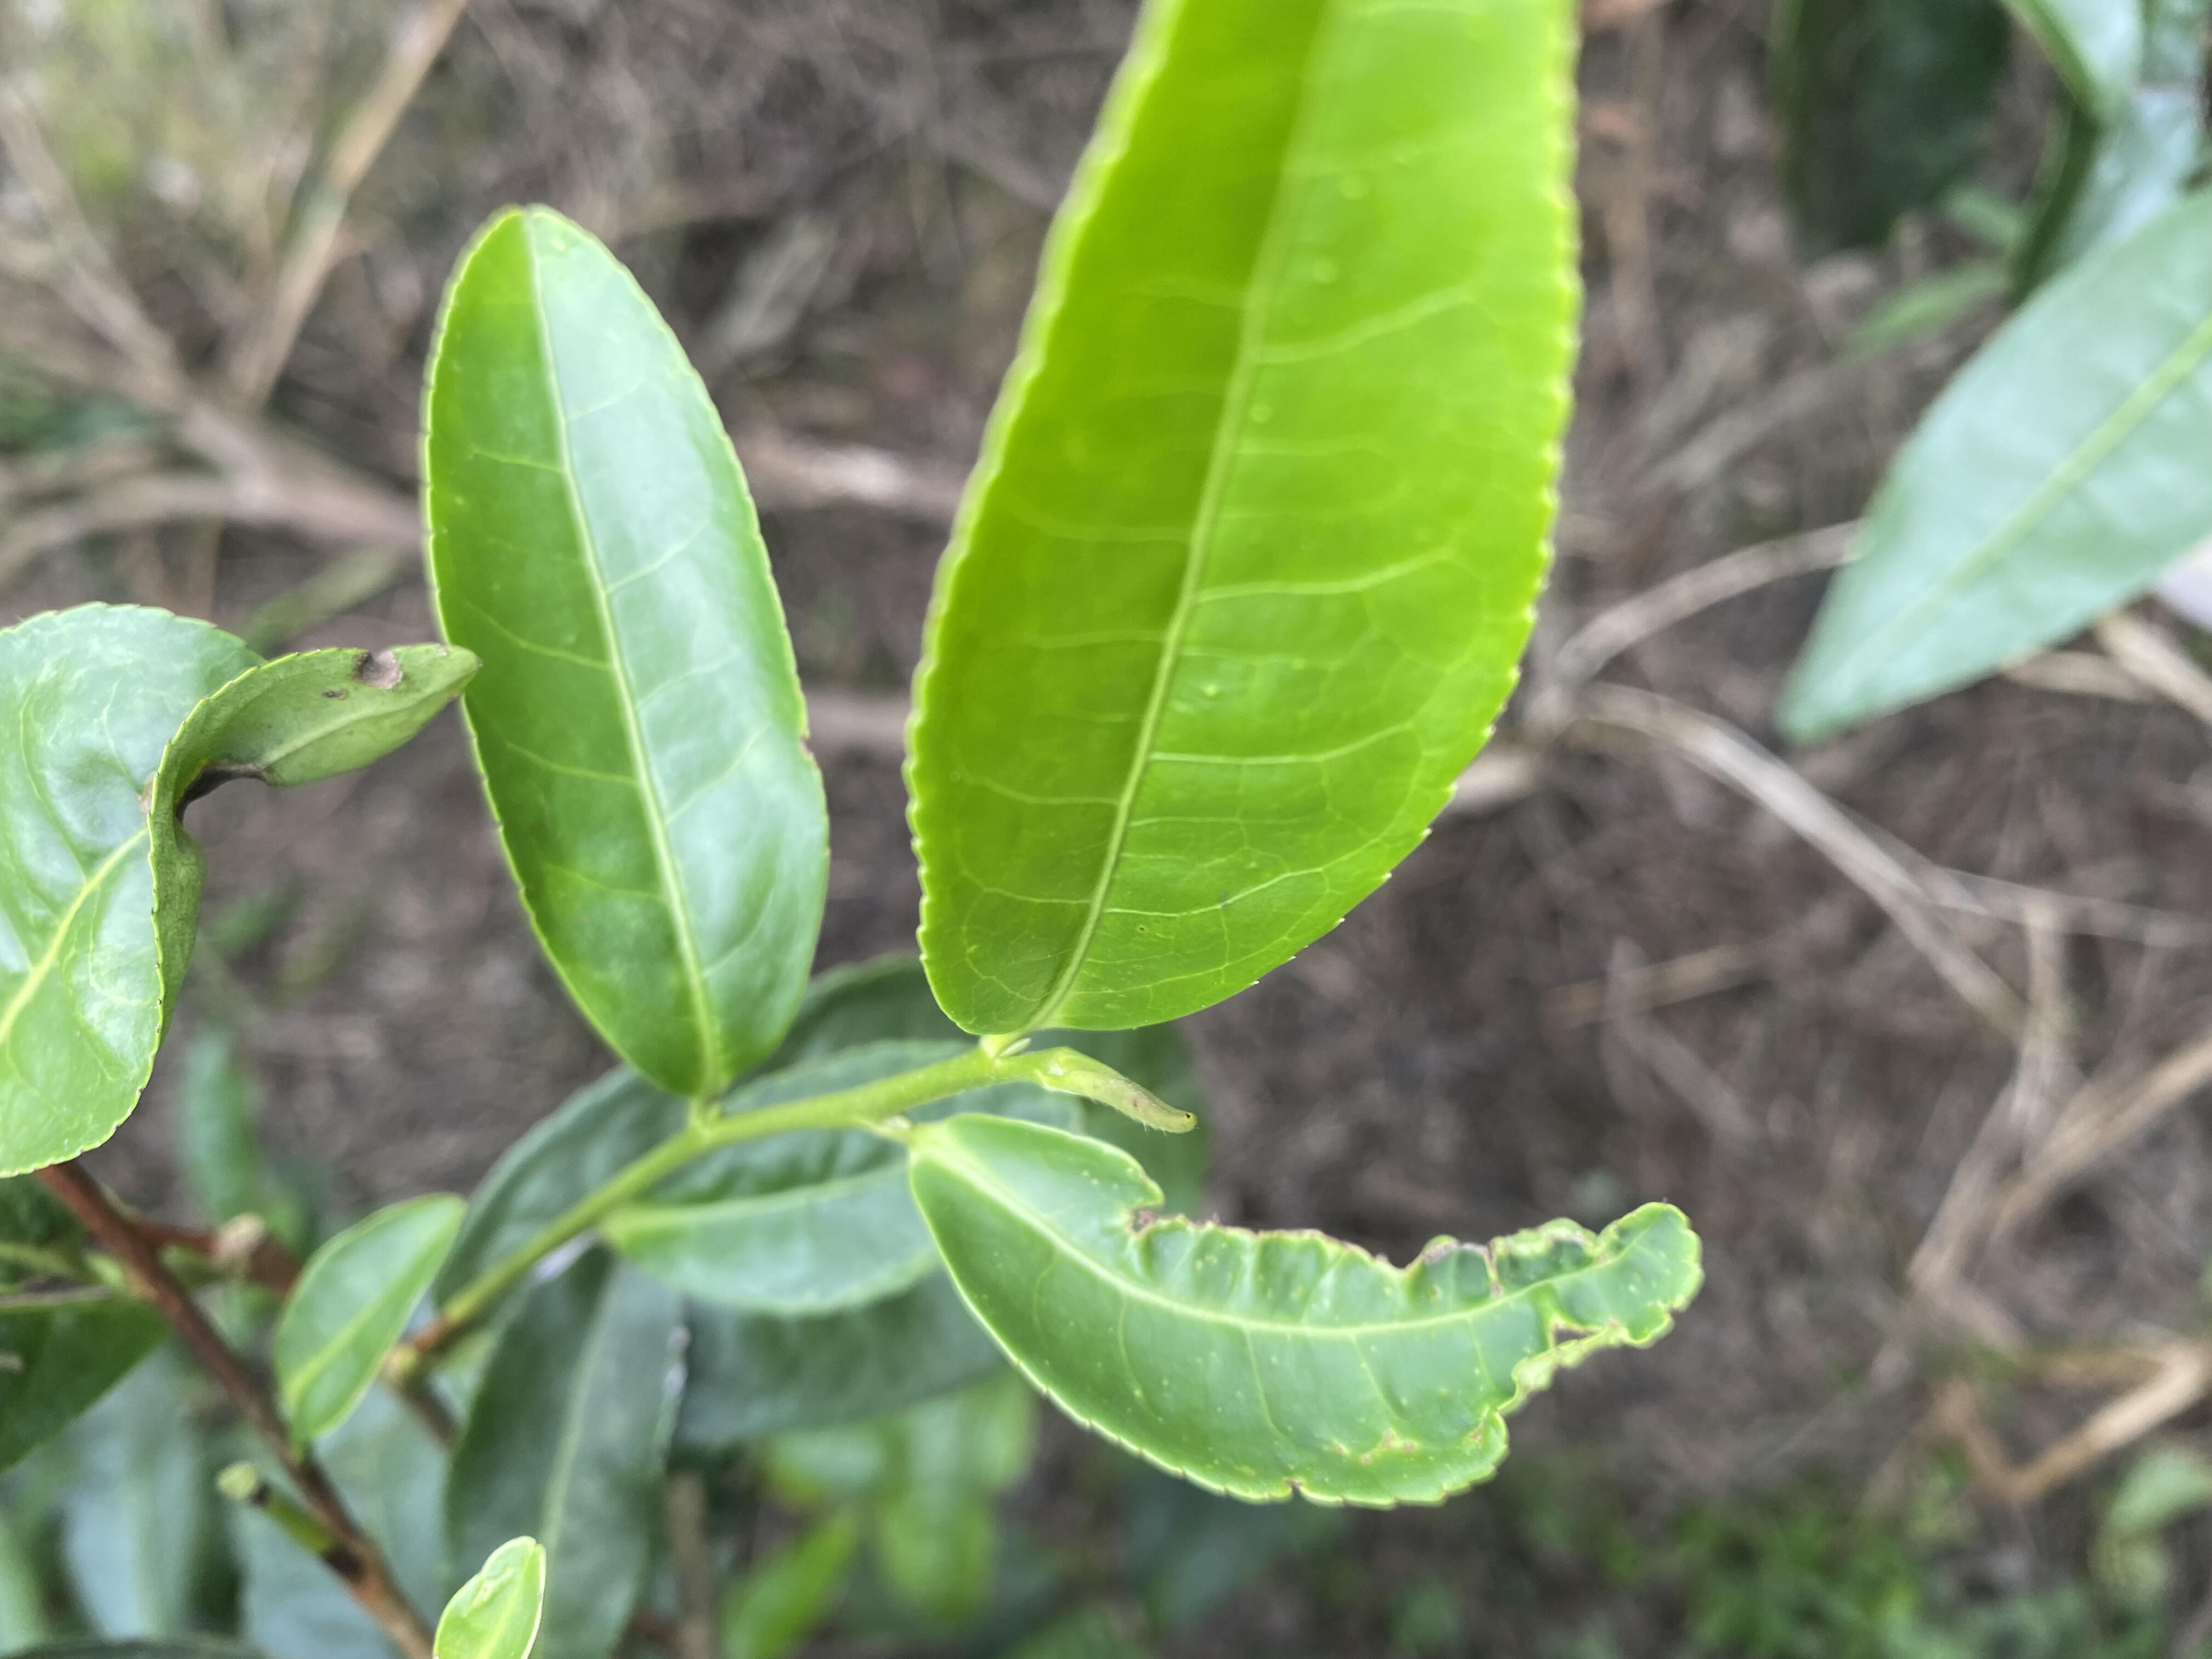chihuo_high: (904, 1105, 1703, 1511)
healthy: (899, 7, 1583, 1044), (425, 199, 833, 1107)
